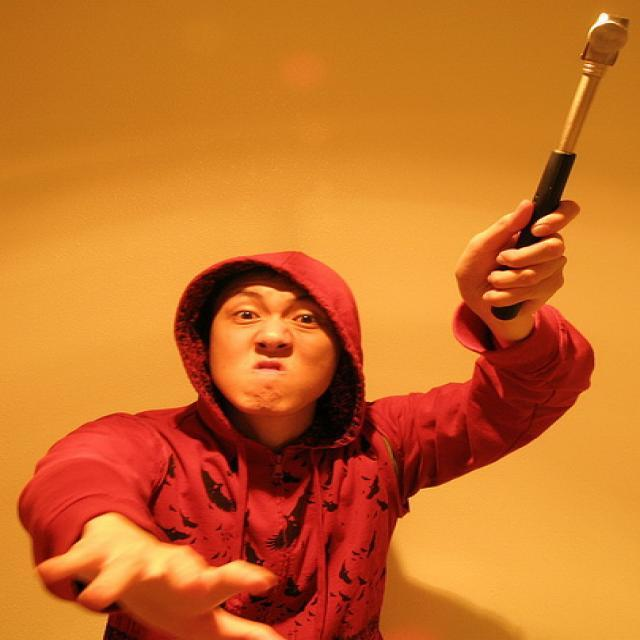hammer: (468, 11, 638, 320)
